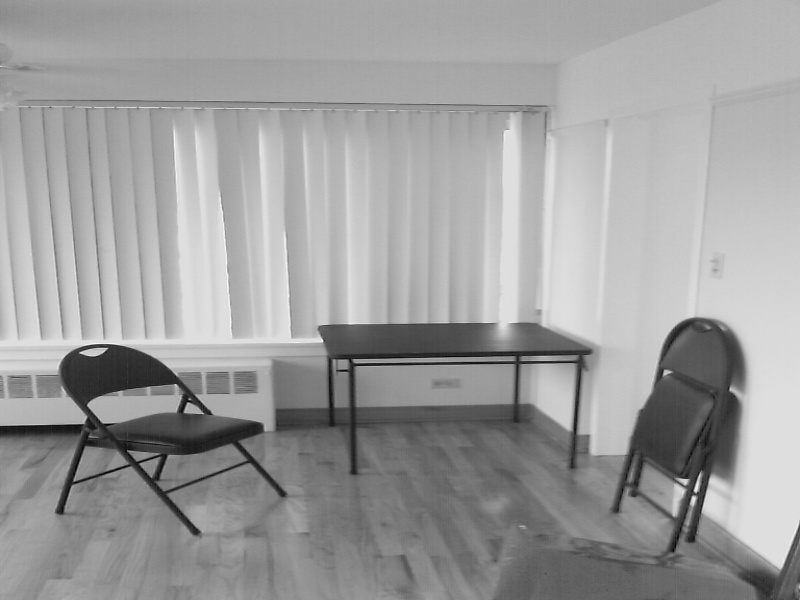chair: (42, 336, 296, 542), (618, 308, 734, 562)
dining table: (313, 311, 592, 475)
